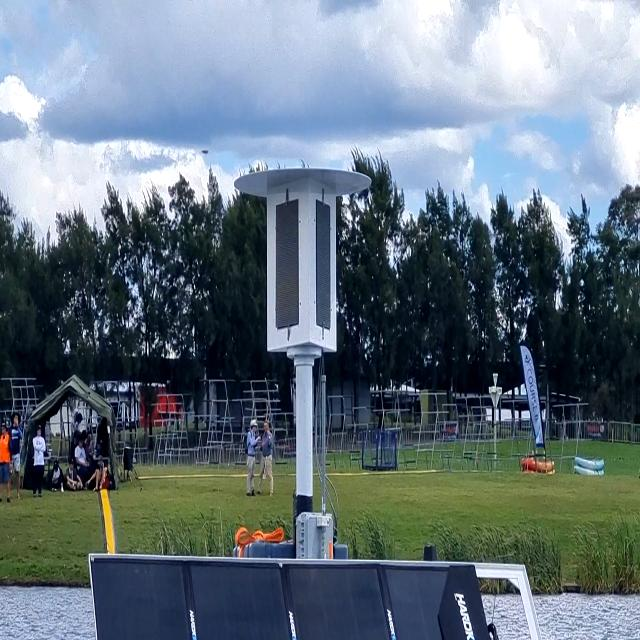led: (269, 192, 305, 337), (311, 190, 334, 339)
